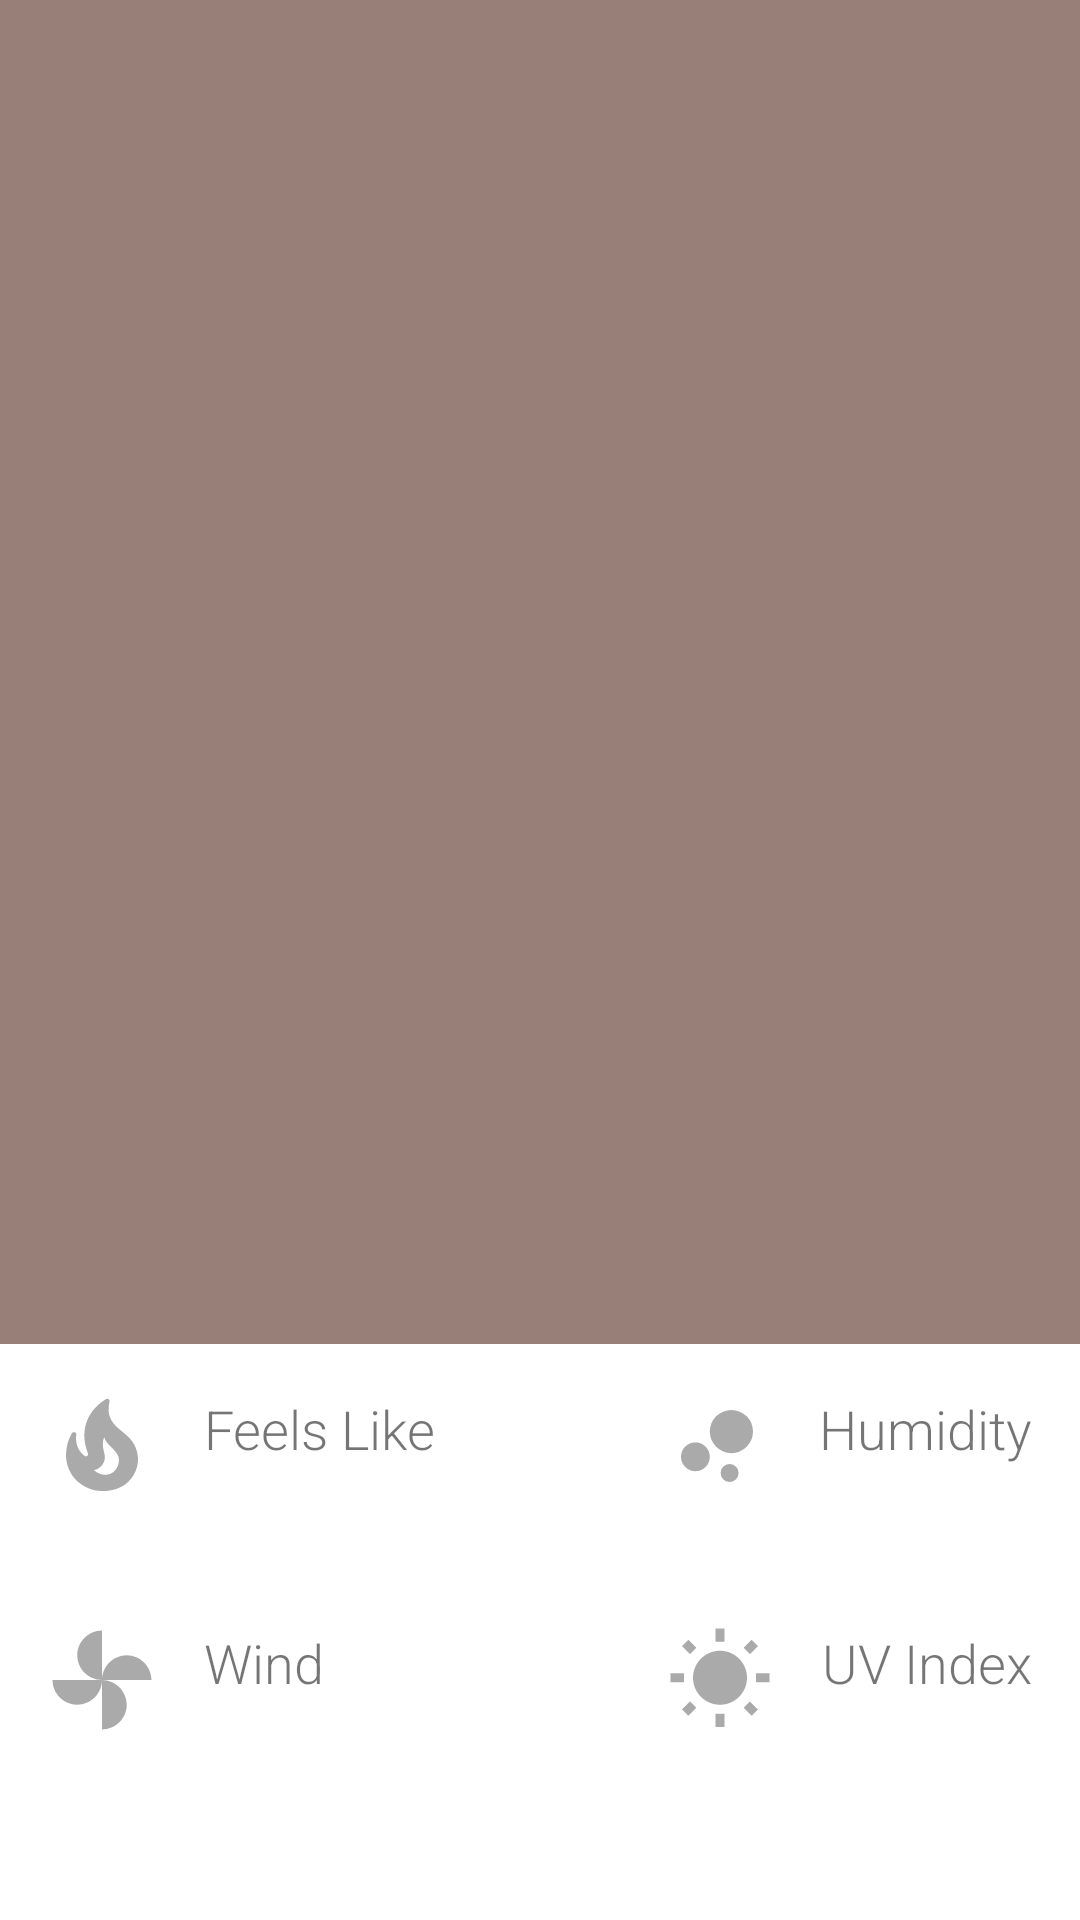

Icon bounding boxes for this 1080px x 1920px phone screenshot, format {"x1": x1, "y1": y1, "x2": x2, "y2": y2}:
Temperature Icon Description: {"x1": 66, "y1": 1399, "x2": 138, "y2": 1491}
